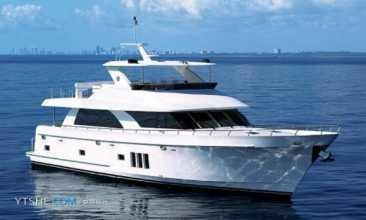yacht: (21, 28, 341, 196)
